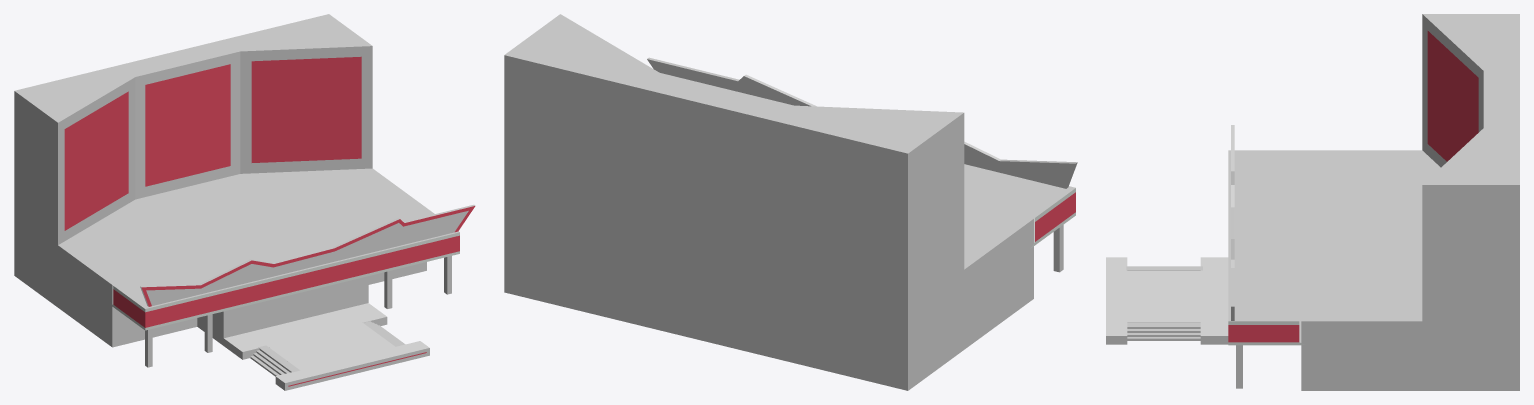
Rendered from Bloc_Conncection_1.fbx.
3 renders of one model, left to right at view 1: azimuth 30°, elevation 25°; view 2: azimuth 150°, elevation 25°; view 3: azimuth 270°, elevation 25°, orthographic. The views are drawn at different scales.
Parts seen in each view (by area): view 1: Bloc_Conncection_1; view 2: Bloc_Conncection_1; view 3: Bloc_Conncection_1.
Boxes of the visible parts, x1=… form: Bloc_Conncection_1: x1=14, y1=14, x2=475, y2=390; Bloc_Conncection_1: x1=504, y1=14, x2=1077, y2=390; Bloc_Conncection_1: x1=1106, y1=14, x2=1519, y2=390.
Bounding box in the file's own units: 2703 × 1490 × 2807.
